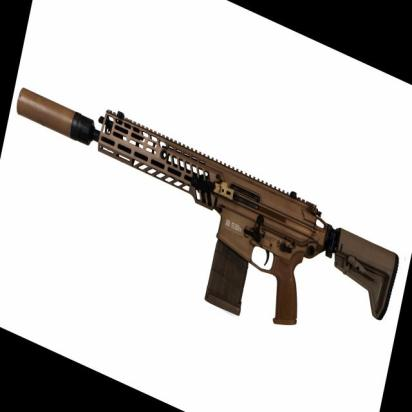Gun: (76, 102, 396, 324)
